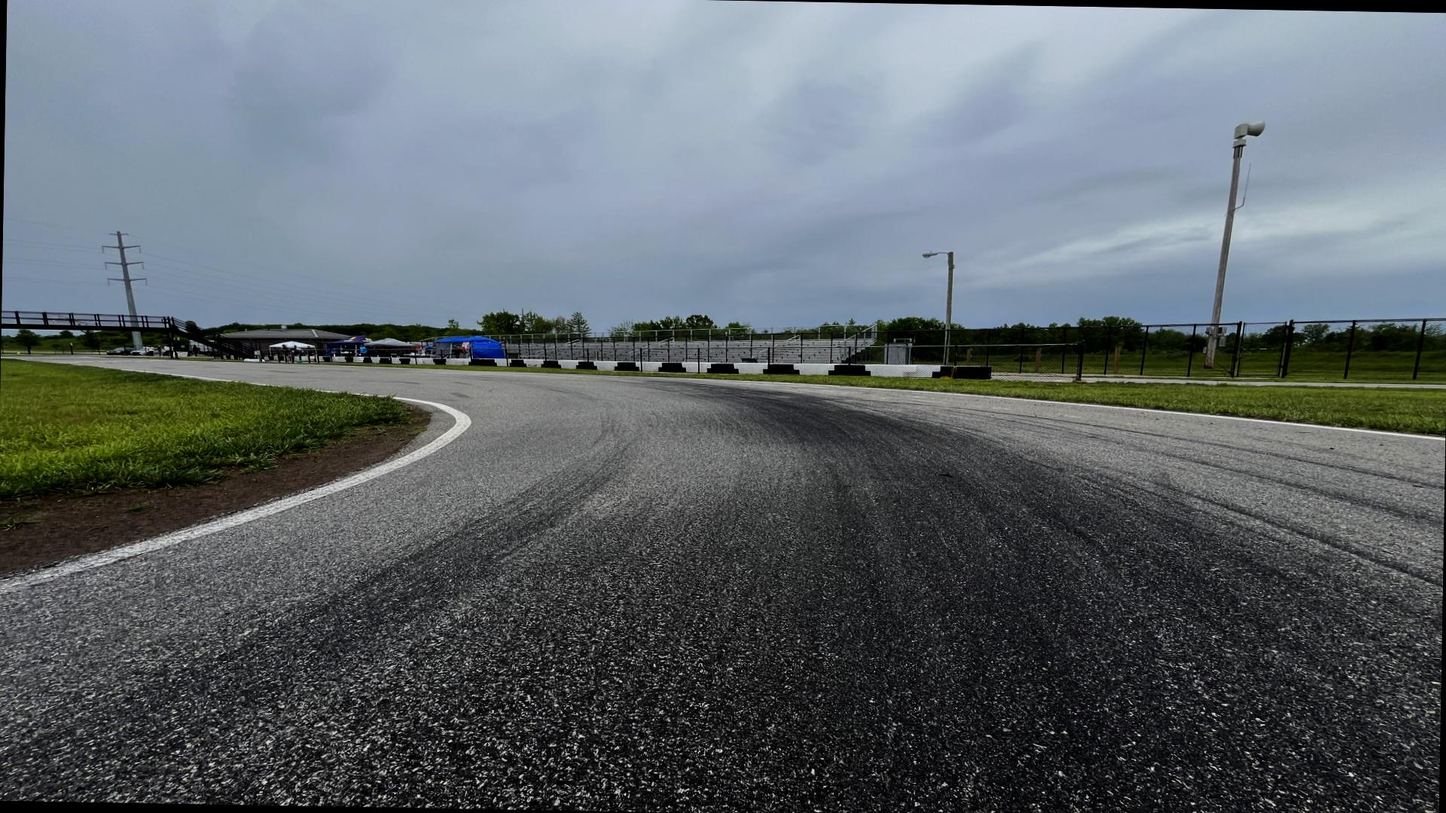white-line: (0, 370, 472, 598), (648, 377, 1444, 440)
